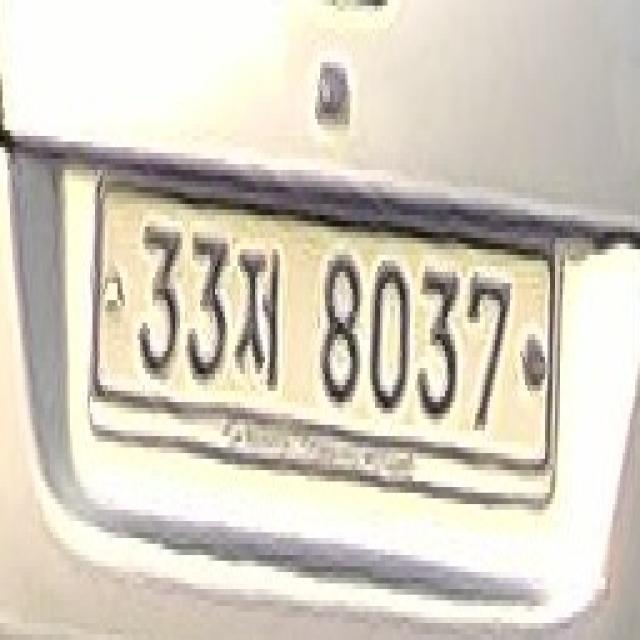0: (365, 255, 410, 413)
3: (182, 221, 228, 385), (138, 216, 180, 380), (418, 260, 458, 430)
7: (465, 272, 510, 430)
8: (320, 250, 362, 413)
jeo: (232, 238, 280, 391)
license_plate: (87, 176, 555, 498)
